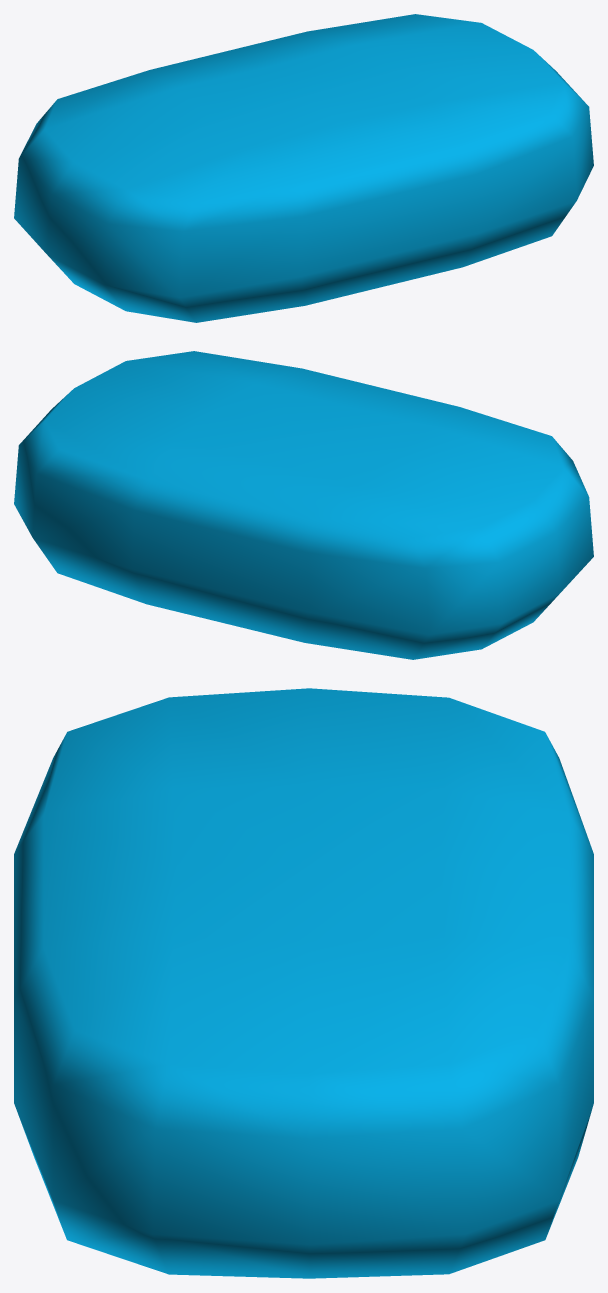
Rendered from Soap_04_Lod0.fbx.
The picture shows the model from 3 angles, top to bottom: view 1: azimuth 30°, elevation 25°; view 2: azimuth 150°, elevation 25°; view 3: azimuth 270°, elevation 25°; orthographic projection. The views are drawn at different scales.
Visible parts, largest first — view 1: Soap_04_Lod0; view 2: Soap_04_Lod0; view 3: Soap_04_Lod0.
Boxes of the visible parts, x1,y1,x2,y2 form: Soap_04_Lod0: (14, 14, 593, 322); Soap_04_Lod0: (14, 351, 593, 659); Soap_04_Lod0: (14, 688, 593, 1278).
Bounding box in the file's own units: 16.77 × 4.13 × 9.54.
